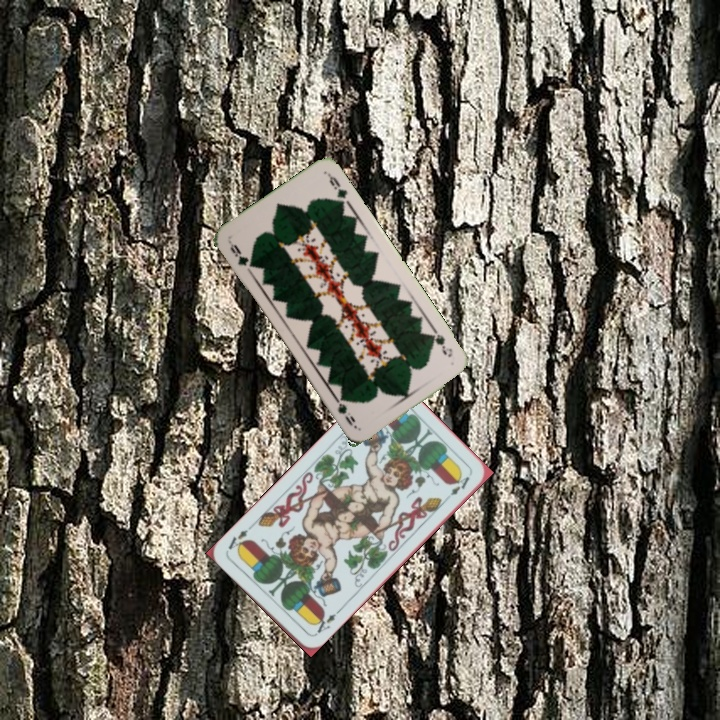EA: (310, 606, 342, 638)
G9: (426, 326, 456, 360), (226, 240, 256, 270)
